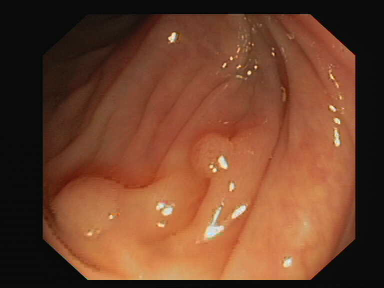polyp: (49, 167, 152, 248), (185, 120, 243, 171)
